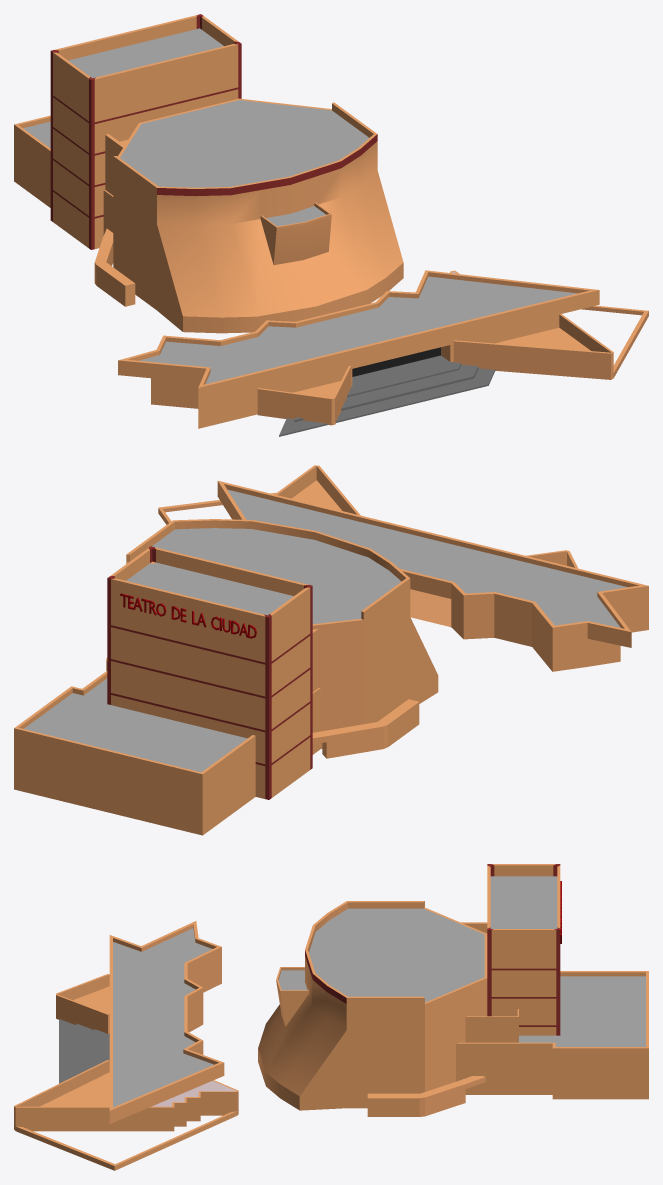
Rendered from Theater.glb.
3 views of the same model, one above another, from view 1: azimuth 30°, elevation 25°; view 2: azimuth 150°, elevation 25°; view 3: azimuth 270°, elevation 25° (orthographic). The views are drawn at different scales.
Visible parts, largest first — view 1: Theater; view 2: Theater, Text; view 3: Theater.
Part boxes in pixels (x1,y1,x2,y2): Theater: [14, 14, 648, 436]; Theater: [14, 465, 648, 835]; Text: [120, 593, 256, 638]; Theater: [14, 864, 648, 1170].
Size of the model in its own units: 96.83 by 32.84 by 122.
Materials: 2 (1 with a texture image).
